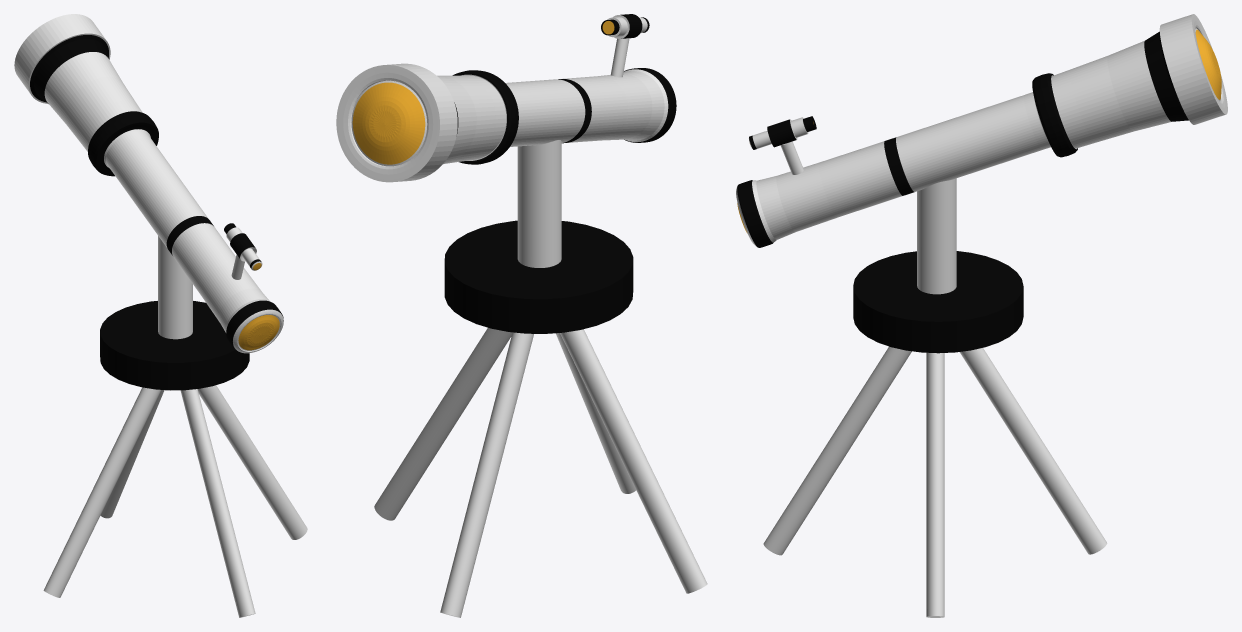
File: telescope.fbx
3 renders of one model, left to right at view 1: azimuth 30°, elevation 25°; view 2: azimuth 150°, elevation 25°; view 3: azimuth 270°, elevation 25°, orthographic. The views are drawn at different scales.
Visible parts, largest first — view 1: Cylinder, Cylinder.001, Cylinder.002, Cylinder.004, Cylinder.005, Cylinder.006, Cylinder.003, Cylinder.008; view 2: Cylinder, Cylinder.001, Cylinder.002, Cylinder.003, Cylinder.005, Cylinder.006, Cylinder.004, Cylinder.008, Cylinder.007; view 3: Cylinder, Cylinder.001, Cylinder.004, Cylinder.003, Cylinder.005, Cylinder.006, Cylinder.008.
Boxes of the visible parts, x1=… form: Cylinder: x1=14, y1=14, x2=283, y2=353; Cylinder.001: x1=100, y1=301, x2=249, y2=390; Cylinder.002: x1=43, y1=387, x2=161, y2=597; Cylinder.004: x1=180, y1=389, x2=255, y2=617; Cylinder.005: x1=197, y1=385, x2=307, y2=539; Cylinder.006: x1=158, y1=236, x2=192, y2=339; Cylinder.003: x1=100, y1=390, x2=164, y2=518; Cylinder.008: x1=224, y1=223, x2=262, y2=270; Cylinder: x1=336, y1=63, x2=676, y2=182; Cylinder.001: x1=444, y1=220, x2=633, y2=333; Cylinder.002: x1=560, y1=329, x2=707, y2=593; Cylinder.003: x1=440, y1=332, x2=533, y2=617; Cylinder.005: x1=374, y1=327, x2=512, y2=520; Cylinder.006: x1=517, y1=140, x2=561, y2=267; Cylinder.004: x1=556, y1=333, x2=635, y2=493; Cylinder.008: x1=601, y1=14, x2=649, y2=38; Cylinder.007: x1=610, y1=38, x2=629, y2=77; Cylinder: x1=736, y1=14, x2=1227, y2=247; Cylinder.001: x1=853, y1=251, x2=1023, y2=353; Cylinder.004: x1=763, y1=346, x2=911, y2=555; Cylinder.003: x1=959, y1=348, x2=1107, y2=554; Cylinder.005: x1=926, y1=352, x2=944, y2=617; Cylinder.006: x1=917, y1=178, x2=956, y2=294; Cylinder.008: x1=749, y1=116, x2=816, y2=149.
Bounding box in the file's own units: 646 × 1108 × 923.
